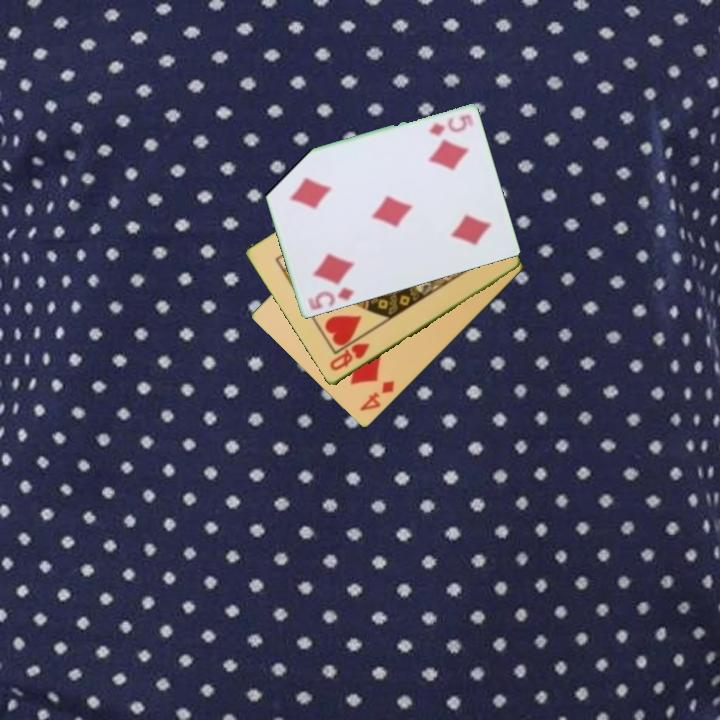4d: (356, 377, 397, 414)
5d: (304, 284, 357, 313), (425, 112, 473, 139)
Qh: (326, 340, 373, 374)
